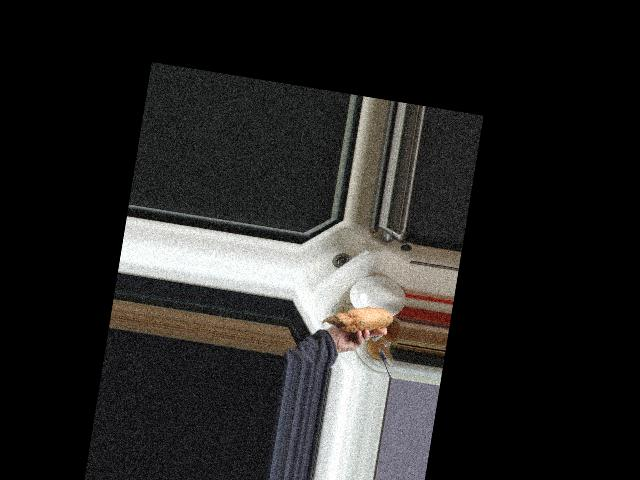sweet_potato: (321, 297, 394, 338)
